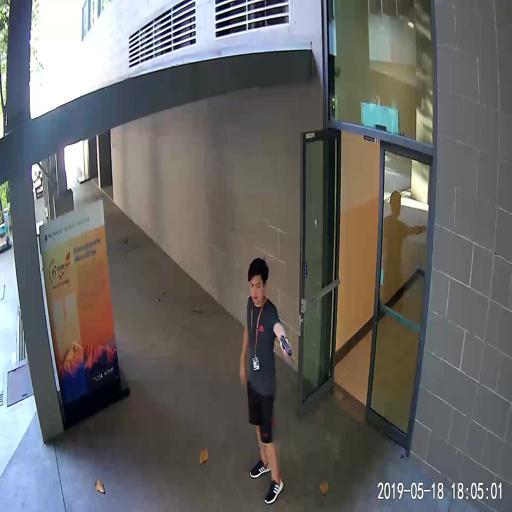Handgun: (277, 331, 291, 358)
